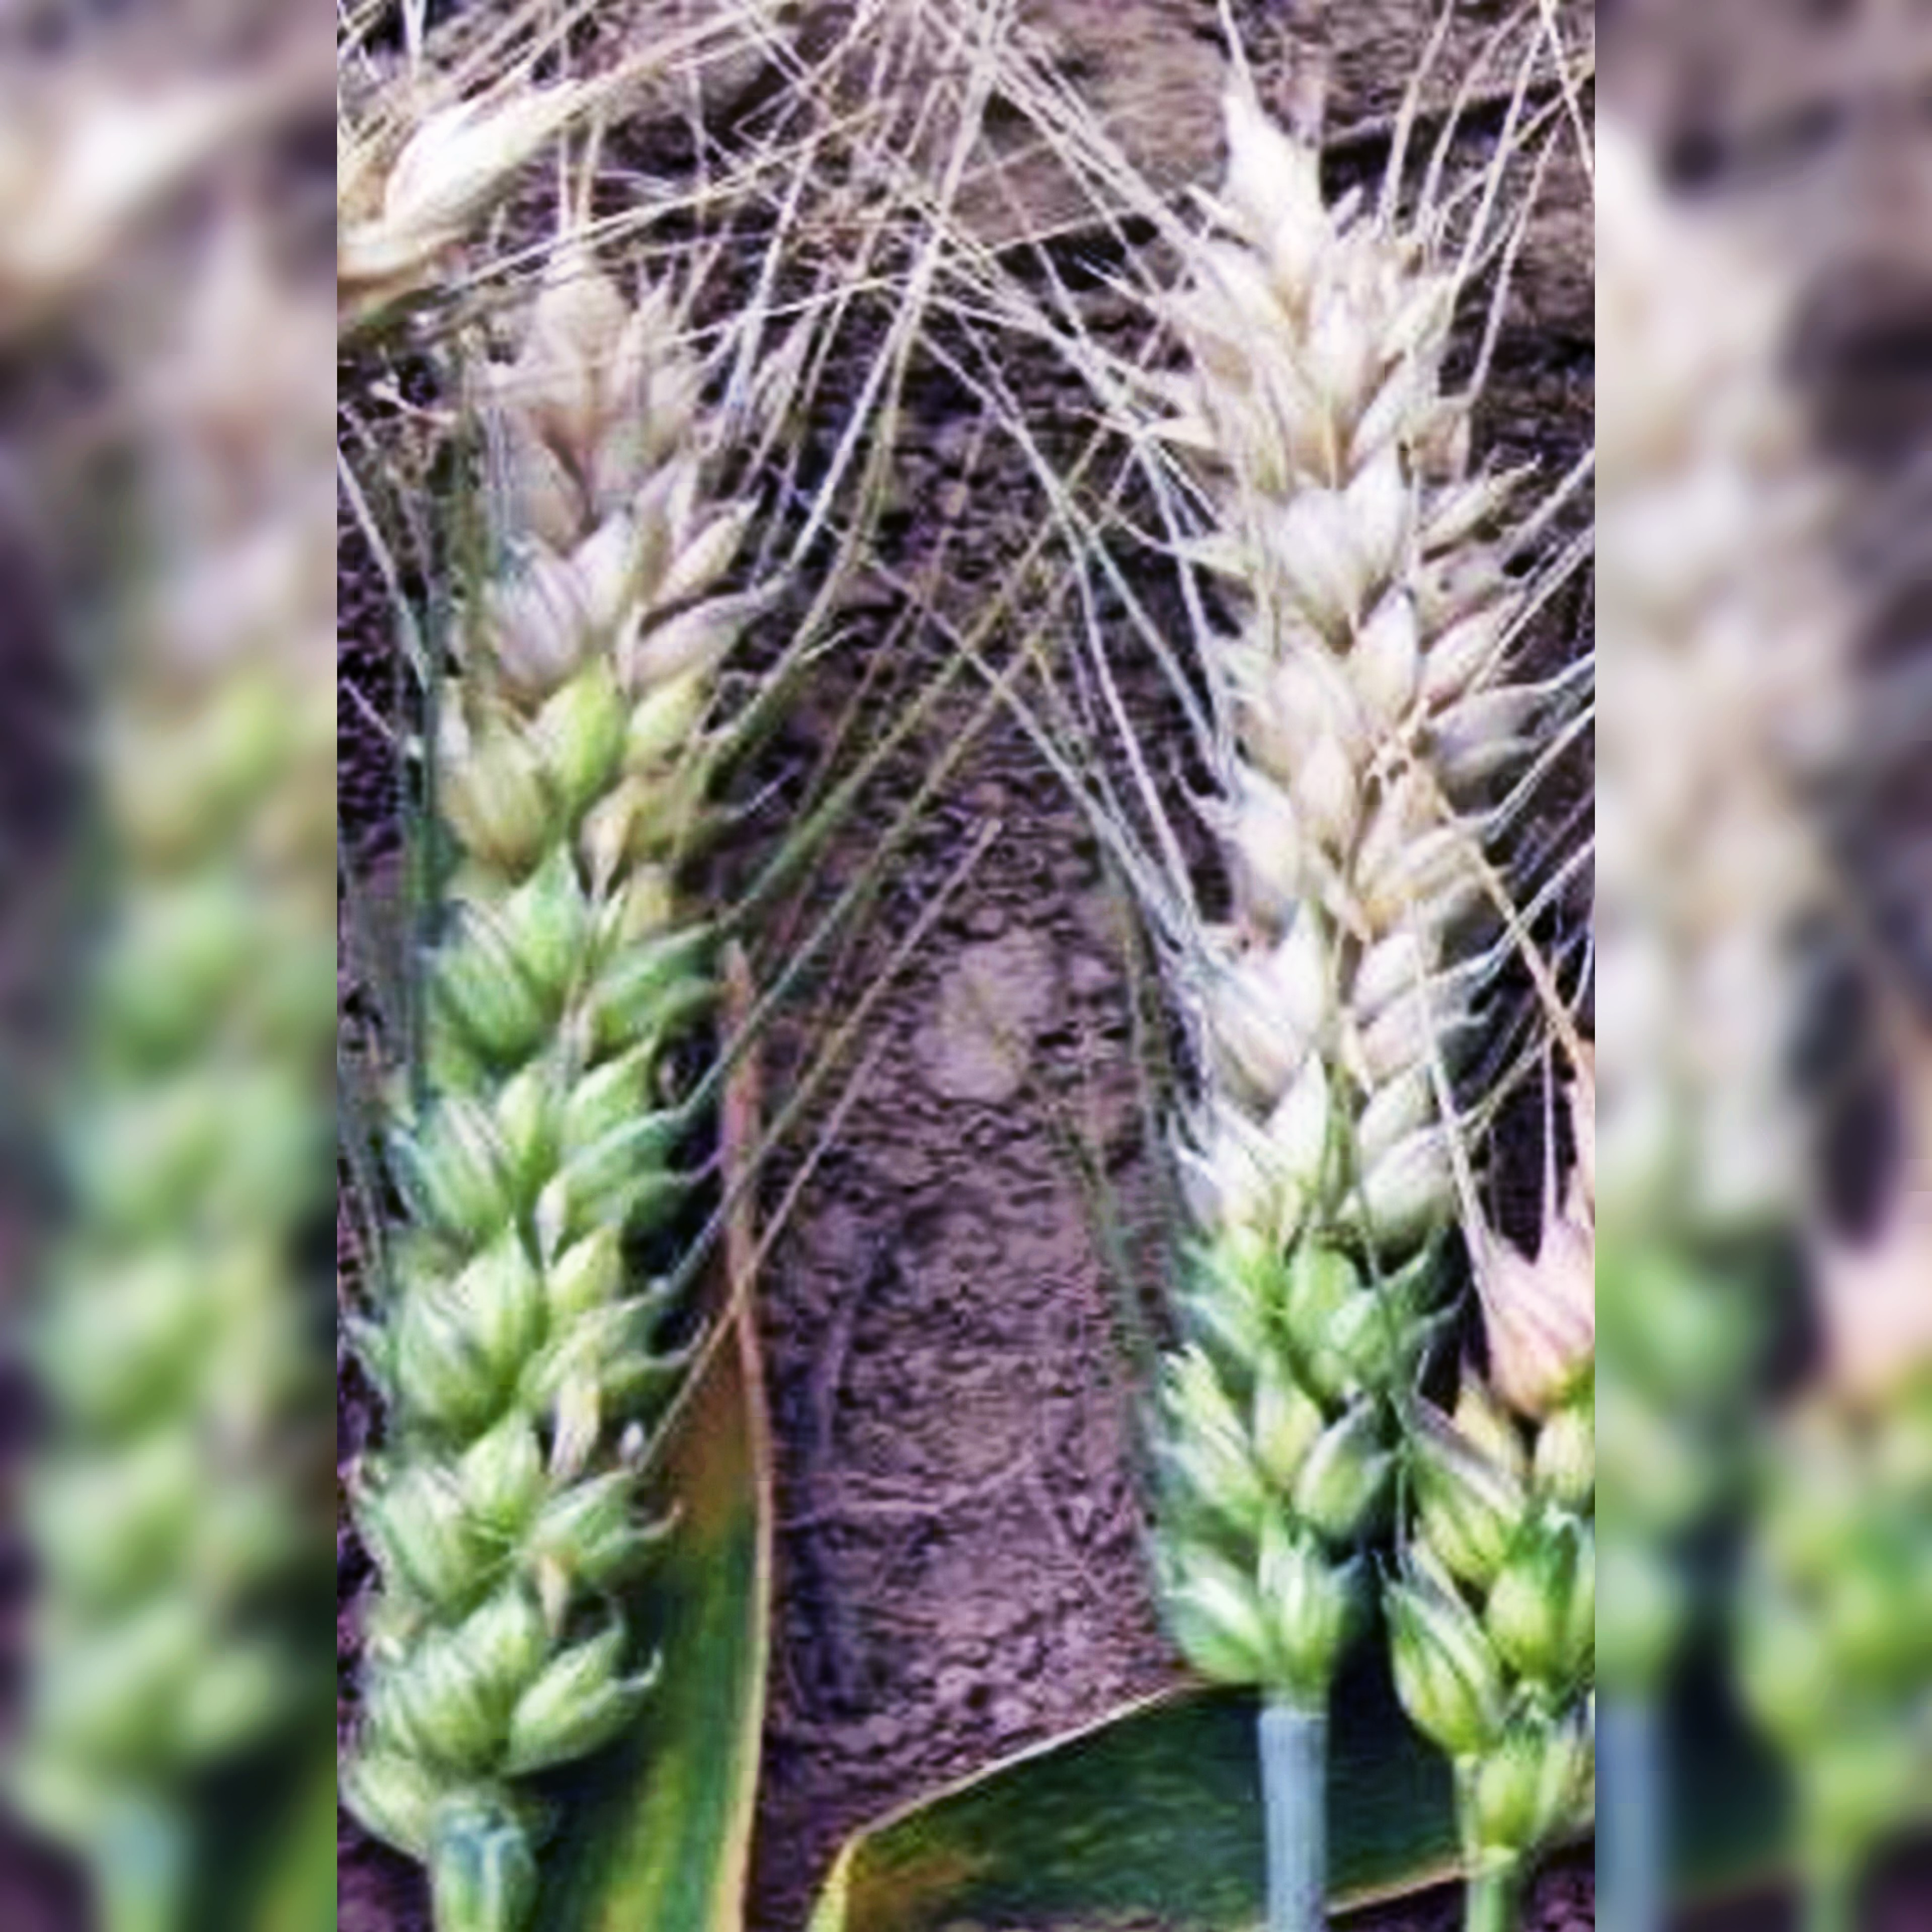Wheat scab: (359, 255, 872, 1819), (1047, 96, 1502, 1741)
